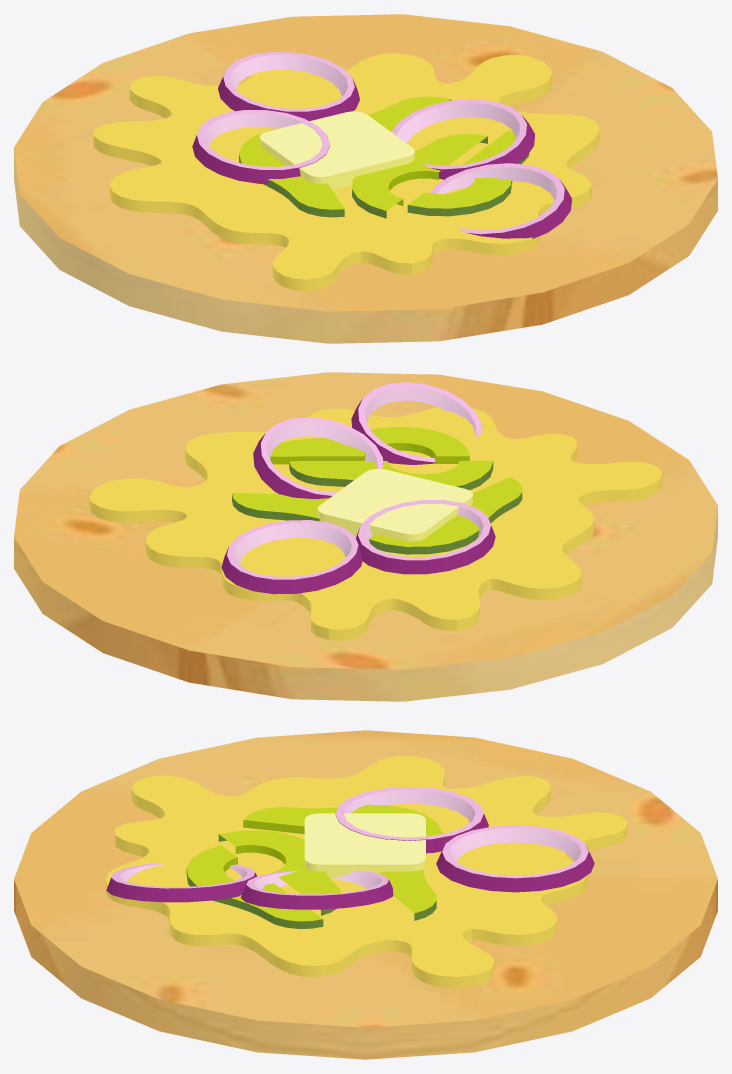
The model's file is taco_Cebolla_Aguacate_Salsa.glb.
The picture shows the model from 3 angles, top to bottom: view 1: azimuth 30°, elevation 25°; view 2: azimuth 150°, elevation 25°; view 3: azimuth 270°, elevation 25°; orthographic projection.
Parts seen in each view (by area): view 1: tortilla.002, Melted_Butter_Butter_0, Avocado_Slice_Avocado_0, Onion_Slice_Onion_0, Onion_Slice_Onion_0.001; view 2: tortilla.002, Melted_Butter_Butter_0, Avocado_Slice_Avocado_0, Onion_Slice_Onion_0, Onion_Slice_Onion_0.001; view 3: tortilla.002, Melted_Butter_Butter_0, Avocado_Slice_Avocado_0, Onion_Slice_Onion_0, Onion_Slice_Onion_0.001.
Part boxes in pixels (x1,y1,x2,y2): tortilla.002: (14, 14, 717, 343); Melted_Butter_Butter_0: (93, 53, 599, 290); Avocado_Slice_Avocado_0: (239, 96, 529, 218); Onion_Slice_Onion_0: (192, 52, 359, 184); Onion_Slice_Onion_0.001: (391, 99, 571, 238); tortilla.002: (14, 372, 717, 701); Melted_Butter_Butter_0: (89, 407, 662, 640); Avocado_Slice_Avocado_0: (232, 426, 522, 554); Onion_Slice_Onion_0: (221, 500, 495, 594); Onion_Slice_Onion_0.001: (253, 382, 482, 499); tortilla.002: (14, 730, 717, 1059); Melted_Butter_Butter_0: (105, 755, 627, 988); Avocado_Slice_Avocado_0: (186, 804, 442, 928); Onion_Slice_Onion_0: (335, 786, 594, 892); Onion_Slice_Onion_0.001: (106, 863, 393, 909).
Bounding box in the file's own units: 0.2118 × 0.0248 × 0.2118.
4 materials, 4 textured.
